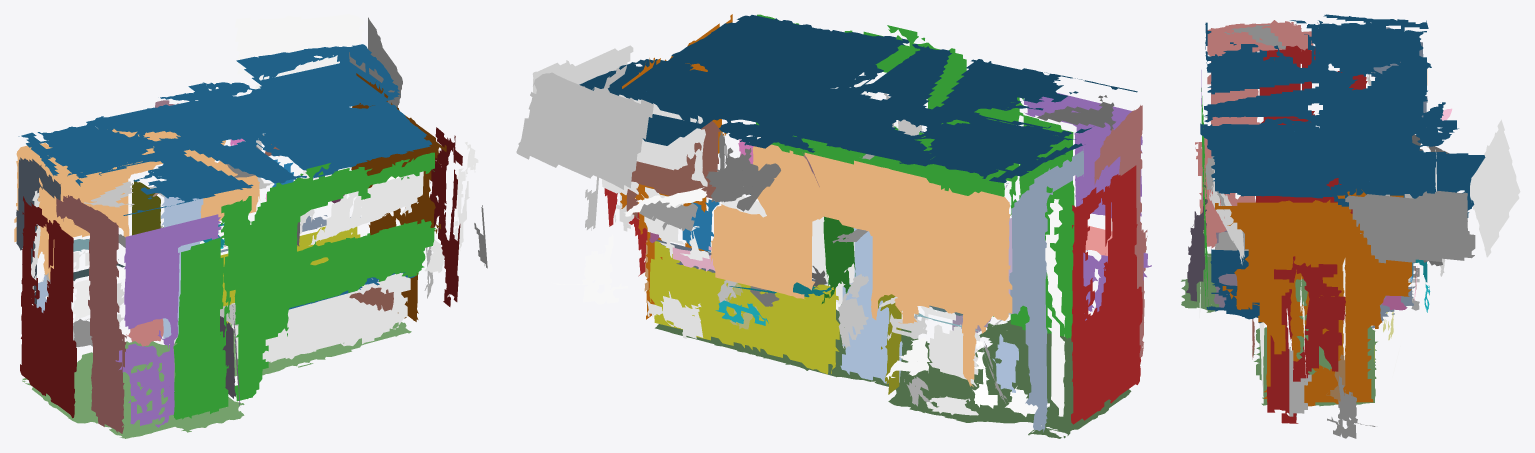
File: airplanes.glb
The picture shows the model from 3 angles, left to right: view 1: azimuth 30°, elevation 25°; view 2: azimuth 150°, elevation 25°; view 3: azimuth 270°, elevation 25°; orthographic projection. The views are drawn at different scales.
Visible parts, largest first — view 1: Node1; view 2: Node1; view 3: Node1.
Part boxes in pixels (x1,y1,x2,y2): Node1: (14,14,487,438); Node1: (516,14,1151,438); Node1: (1181,14,1520,438).
Bounding box in the file's own units: 5.57 × 3.14 × 3.66.
